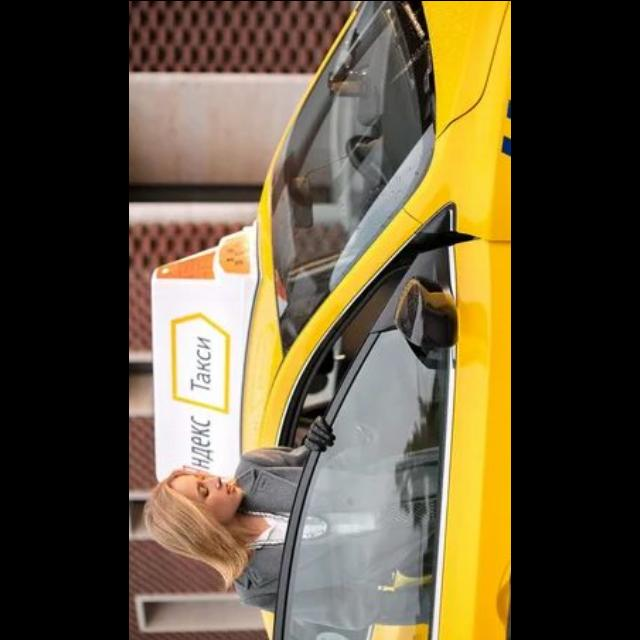taxi: (150, 1, 512, 640)
